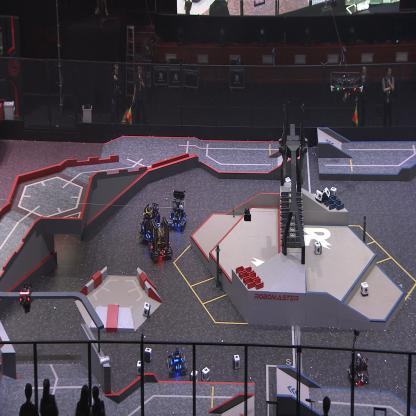car: (147, 218, 172, 260), (168, 189, 188, 232), (140, 200, 160, 242), (347, 352, 369, 388), (166, 344, 189, 376)
